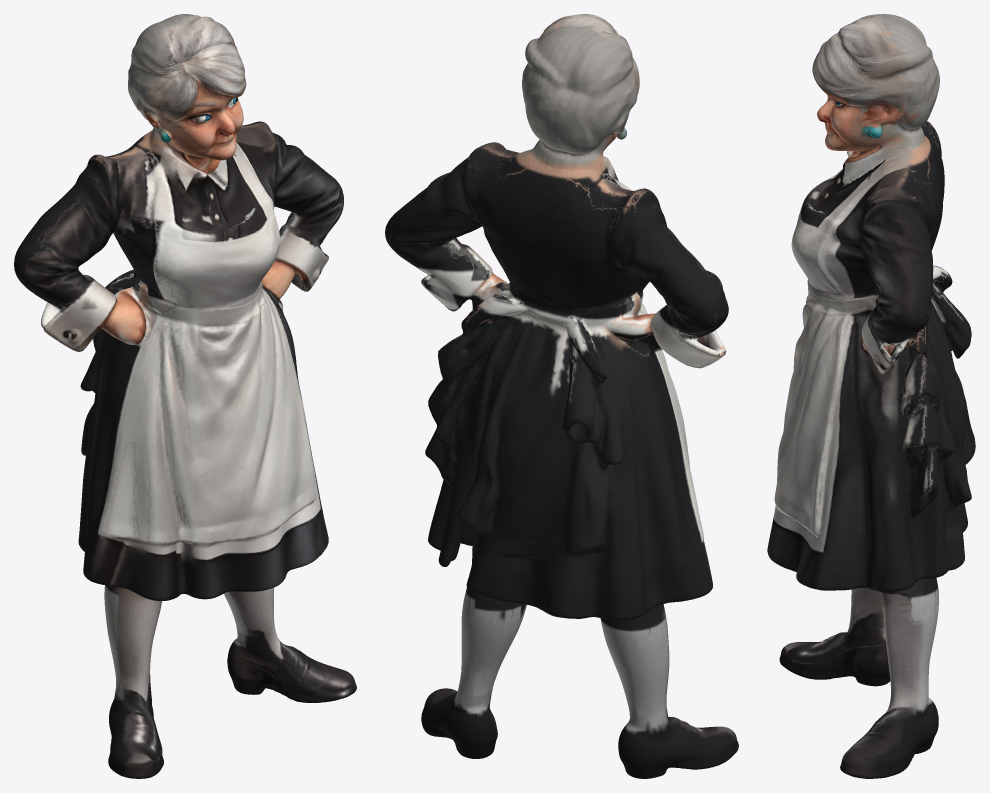
Rendered from sus-white.glb.
3 views of the same model, side by side, from view 1: azimuth 30°, elevation 25°; view 2: azimuth 150°, elevation 25°; view 3: azimuth 270°, elevation 25° (orthographic). The views are drawn at different scales.
Visible parts, largest first — view 1: sus-white; view 2: sus-white; view 3: sus-white.
Boxes of the visible parts, x1,y1,x2,y2 form: sus-white: (14, 14, 356, 778); sus-white: (385, 14, 738, 778); sus-white: (767, 14, 975, 778).
Bounding box in the file's own units: 0.9421 × 1.97 × 0.5395.
1 material, 1 textured.
